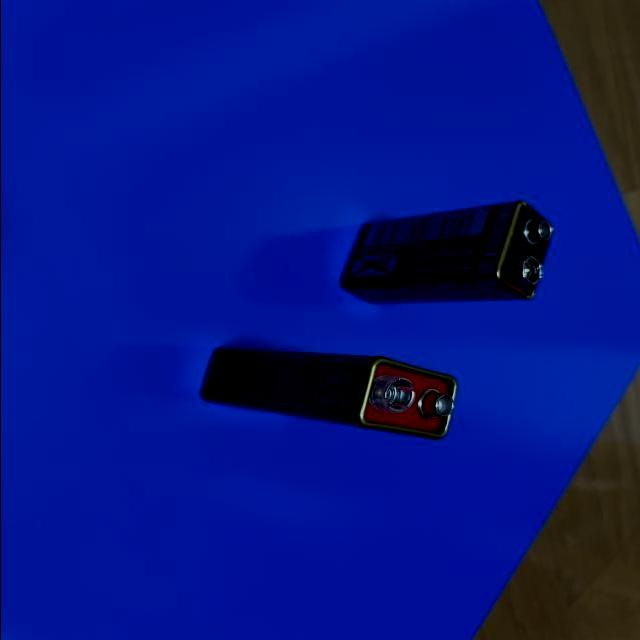9V: (199, 341, 456, 441), (340, 200, 555, 306)
